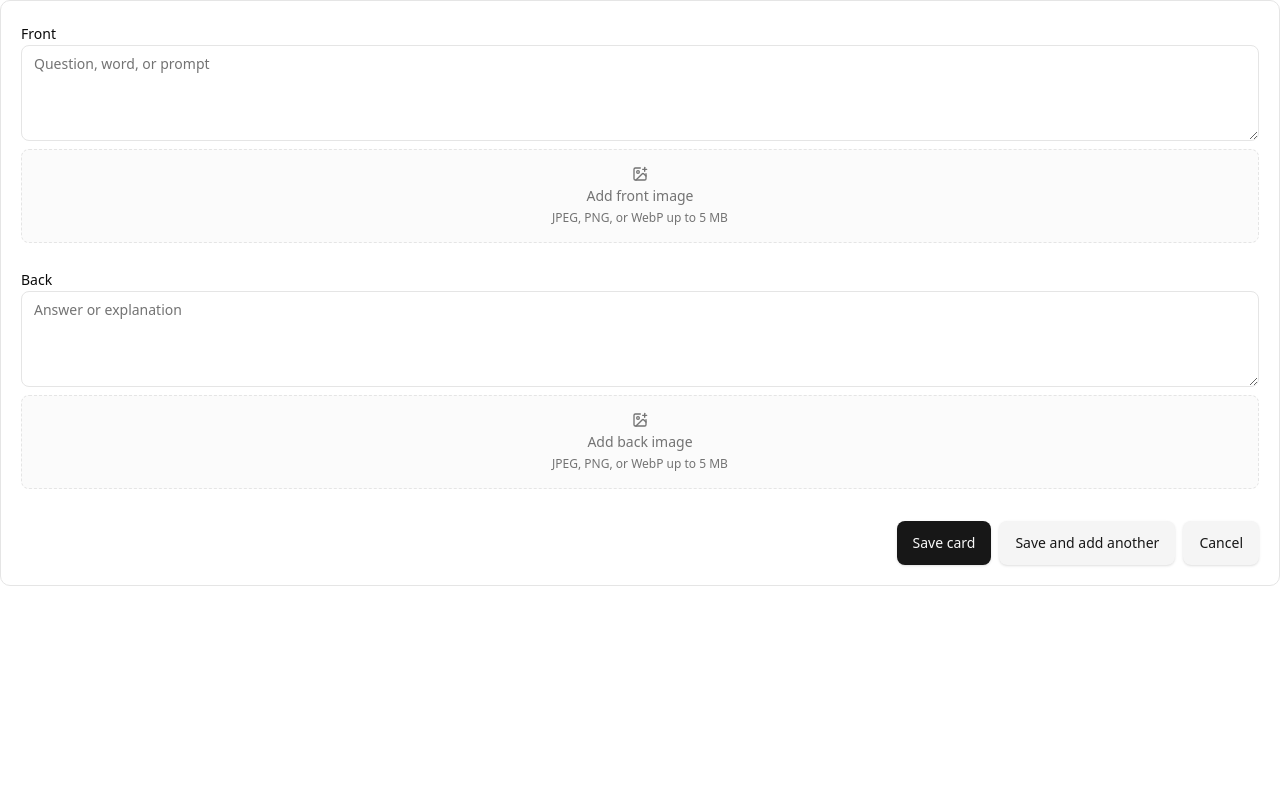
Test: CardForm › allows retrying Save and add another after a rejected outcome
Type "front" into the text box labelled "Front" at (640, 93), box top-left (21, 45), bottom-right (1259, 141)
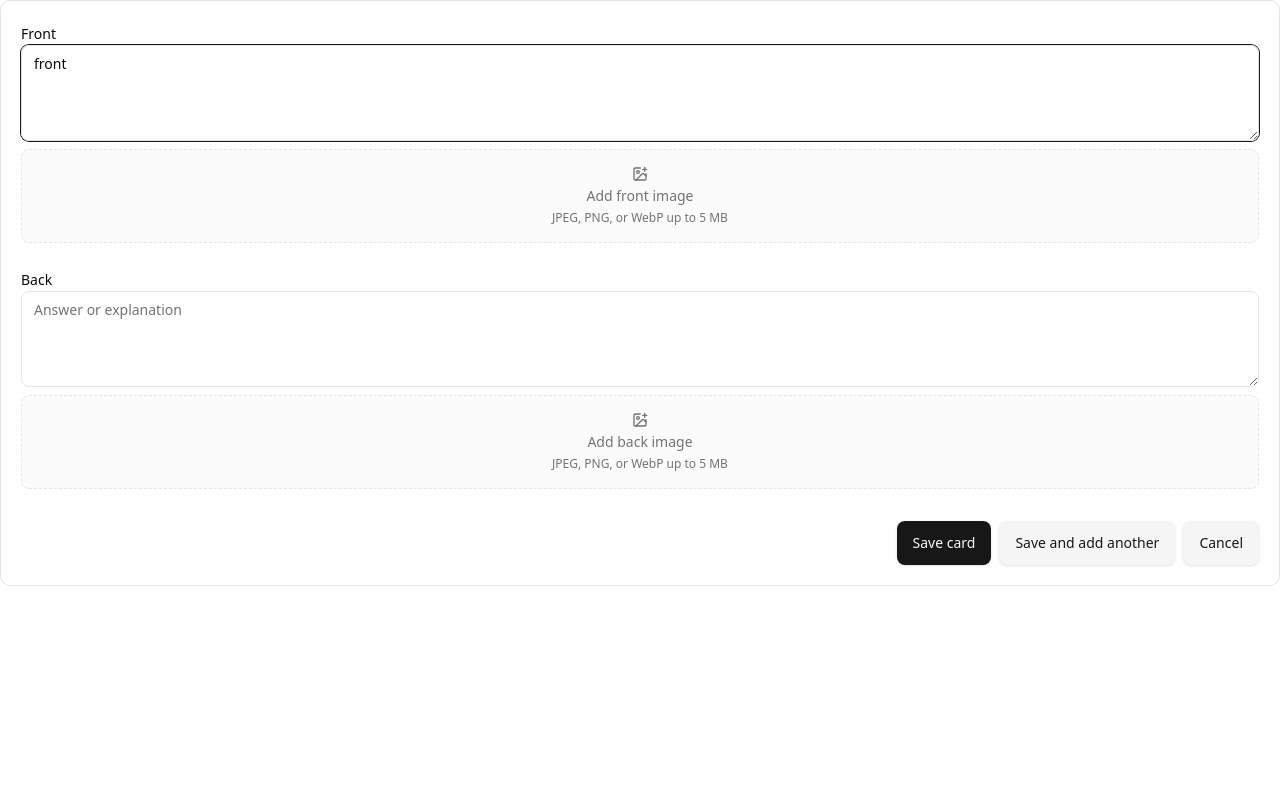
Type "back" into the text box labelled "Back" at (640, 339), box top-left (21, 291), bottom-right (1259, 387)
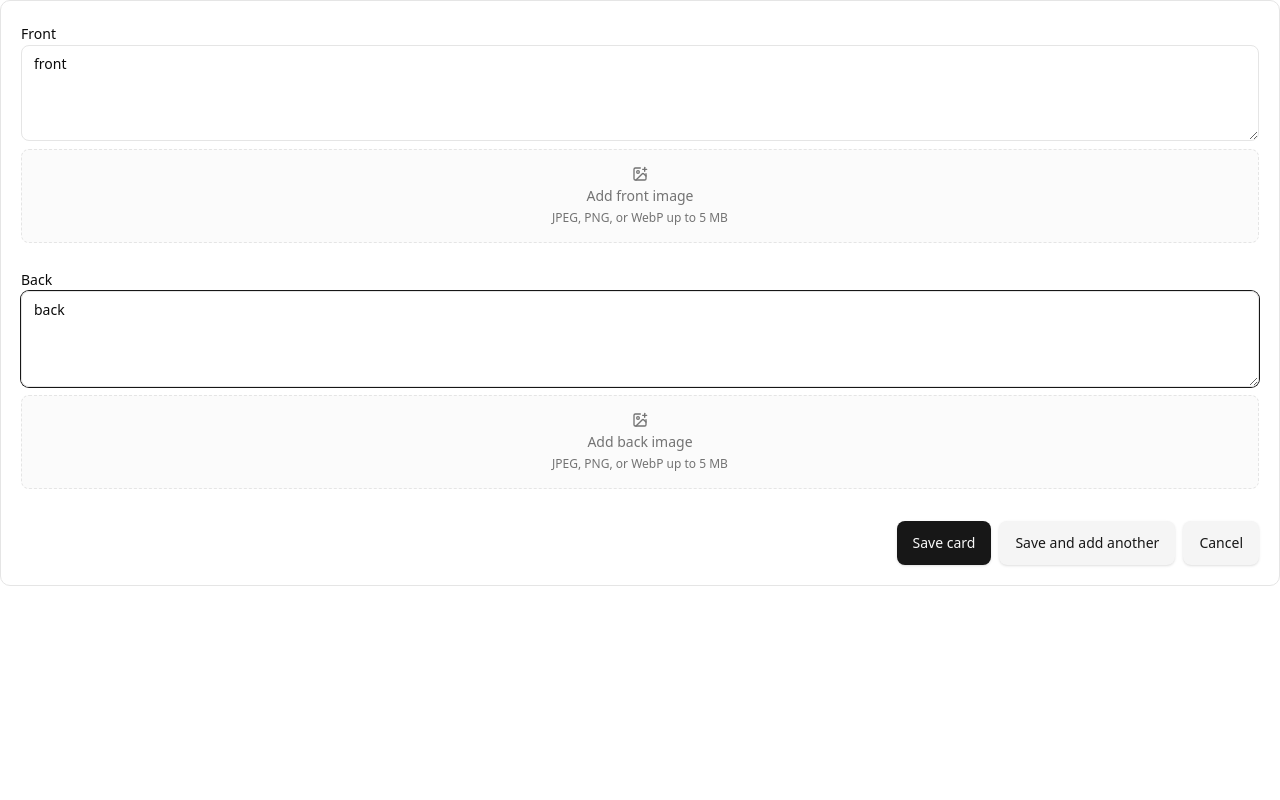
Click the button "Save and add another" at (1087, 543), box top-left (999, 521), bottom-right (1175, 565)
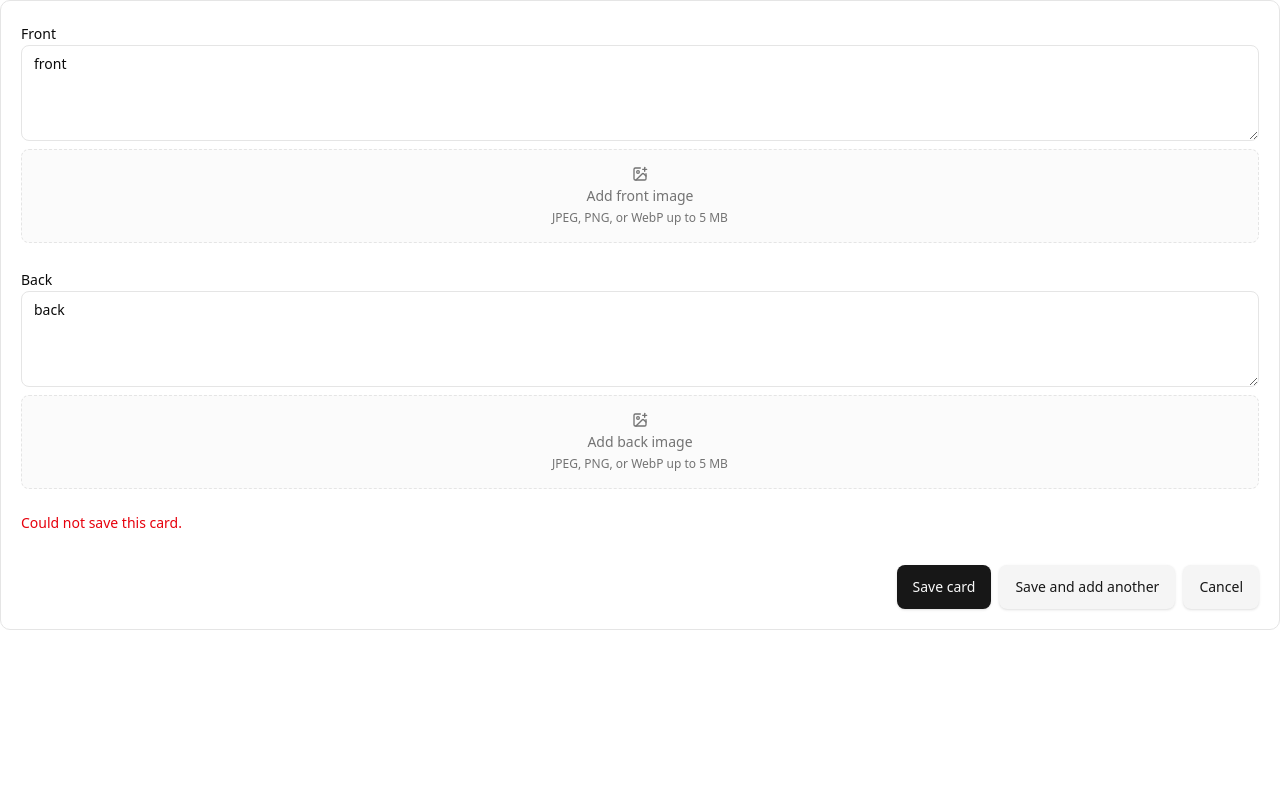
Expected: the button "Save and add another" is enabled, top-left (999, 565), bottom-right (1175, 609)
Now the message reads "Could not save this card.", box top-left (21, 513), bottom-right (182, 532)
